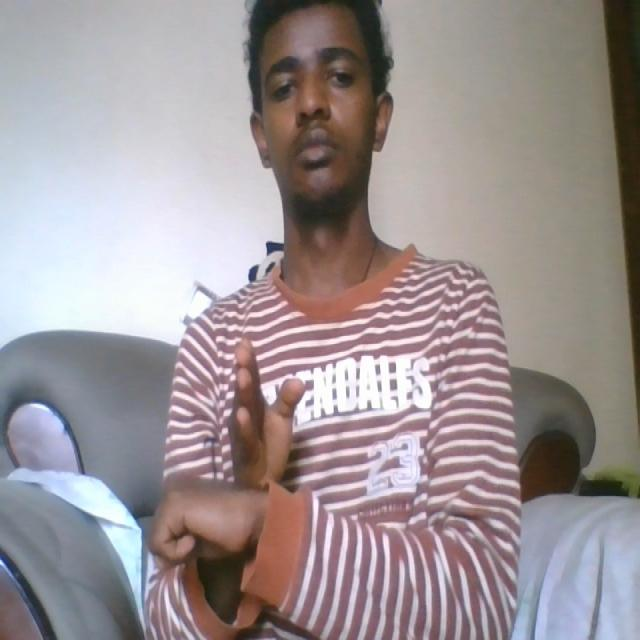behuala: (147, 335, 312, 583)
